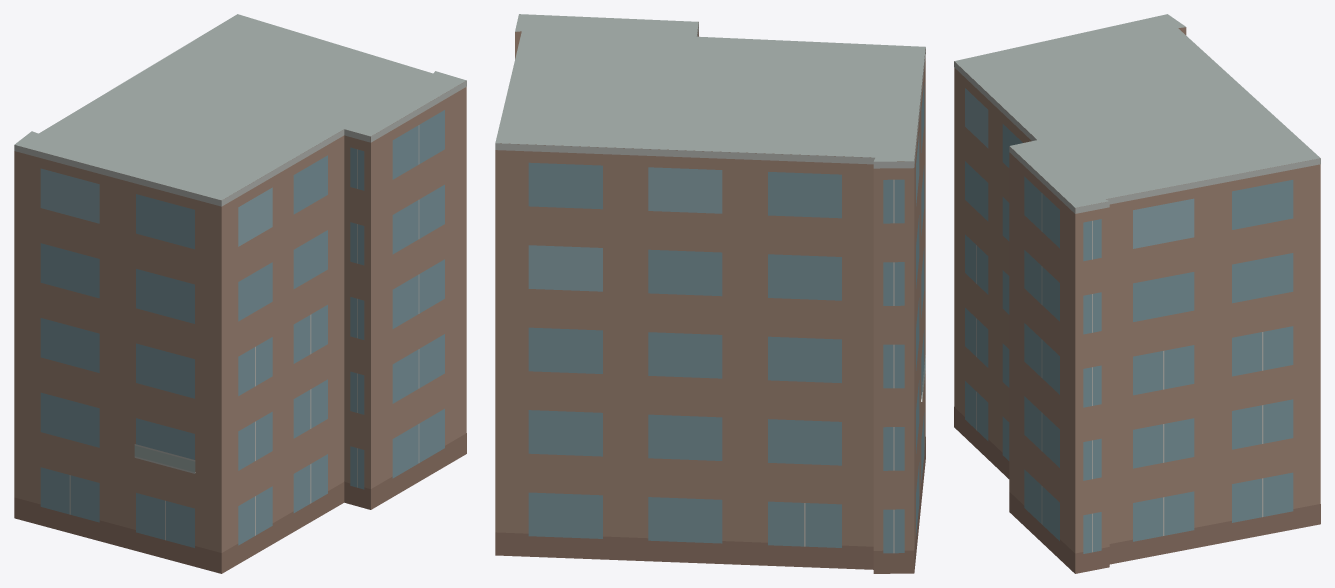
Rendered from survey-upis-32602985.glb.
The picture shows the model from 3 angles, left to right: view 1: azimuth 30°, elevation 25°; view 2: azimuth 150°, elevation 25°; view 3: azimuth 270°, elevation 25°; orthographic projection. The views are drawn at different scales.
Parts seen in each view (by area): view 1: survey-upis-32602985.tmp; view 2: survey-upis-32602985.tmp; view 3: survey-upis-32602985.tmp.
Part boxes in pixels (x1,y1,x2,y2): survey-upis-32602985.tmp: (14, 14, 466, 573); survey-upis-32602985.tmp: (495, 14, 925, 573); survey-upis-32602985.tmp: (954, 14, 1320, 573).
Bounding box in the file's own units: 16.65 × 14.65 × 13.31.
